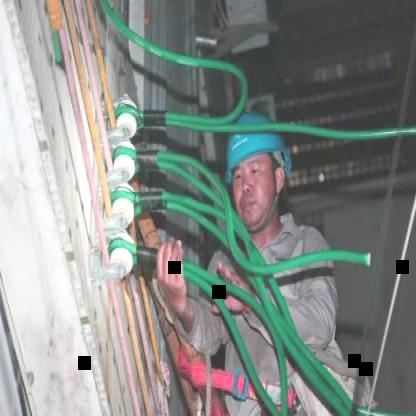helmet: (220, 108, 296, 232)
